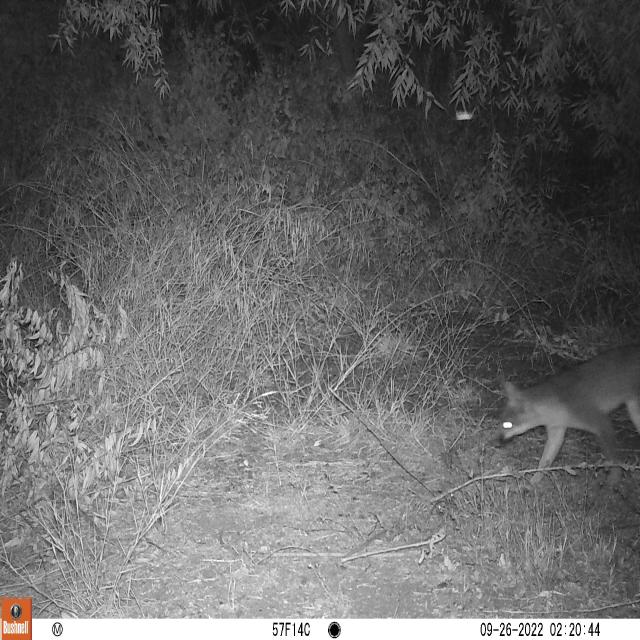Fox: (485, 339, 640, 481)
